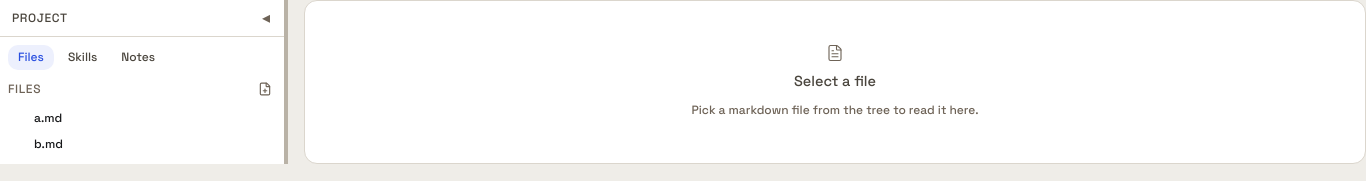
Test case: <Station /> › edit mode › switching files while editing remounts the editor with the newly selected file's content (key={path})
Step 1. Click the button "b.md" → (140, 144), box [34,137,247,152]
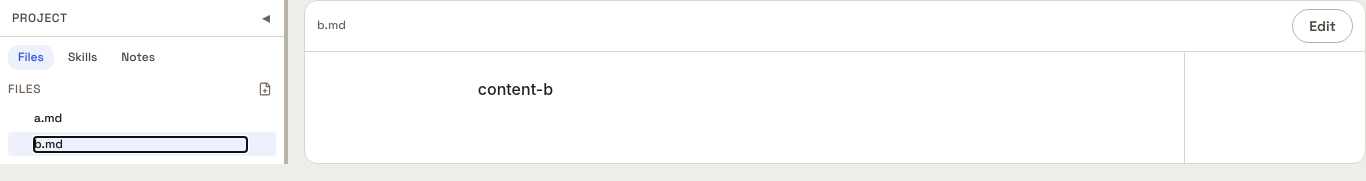
Check: the text "content-b" is shown, box [478,79,553,99]
Step 2. Click the button "a.md" → (140, 118), box [34,111,247,126]
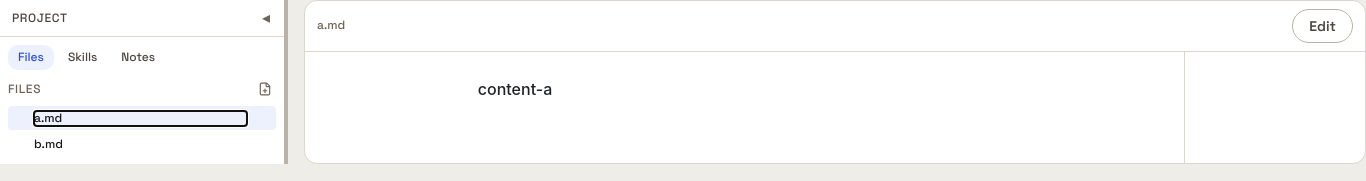
Check: the text "content-a" is shown, box [478,79,552,99]
Step 3. Click the button "Edit" → (1323, 26), box [1292,9,1353,43]
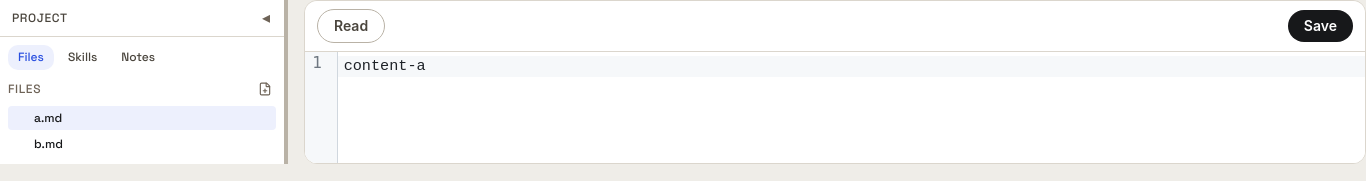
Check: the field with class "cm-content" reads "content-a", box [338,56,1365,77]
Step 4. Click the button "b.md" → (140, 144), box [34,137,247,152]
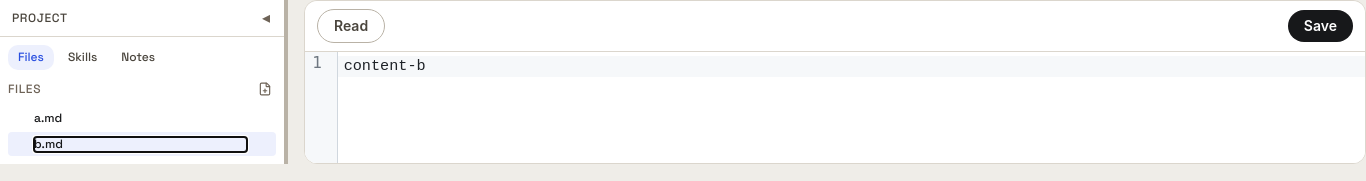
Check: the field with class "cm-content" reads "content-b", box [338,56,1365,77]
